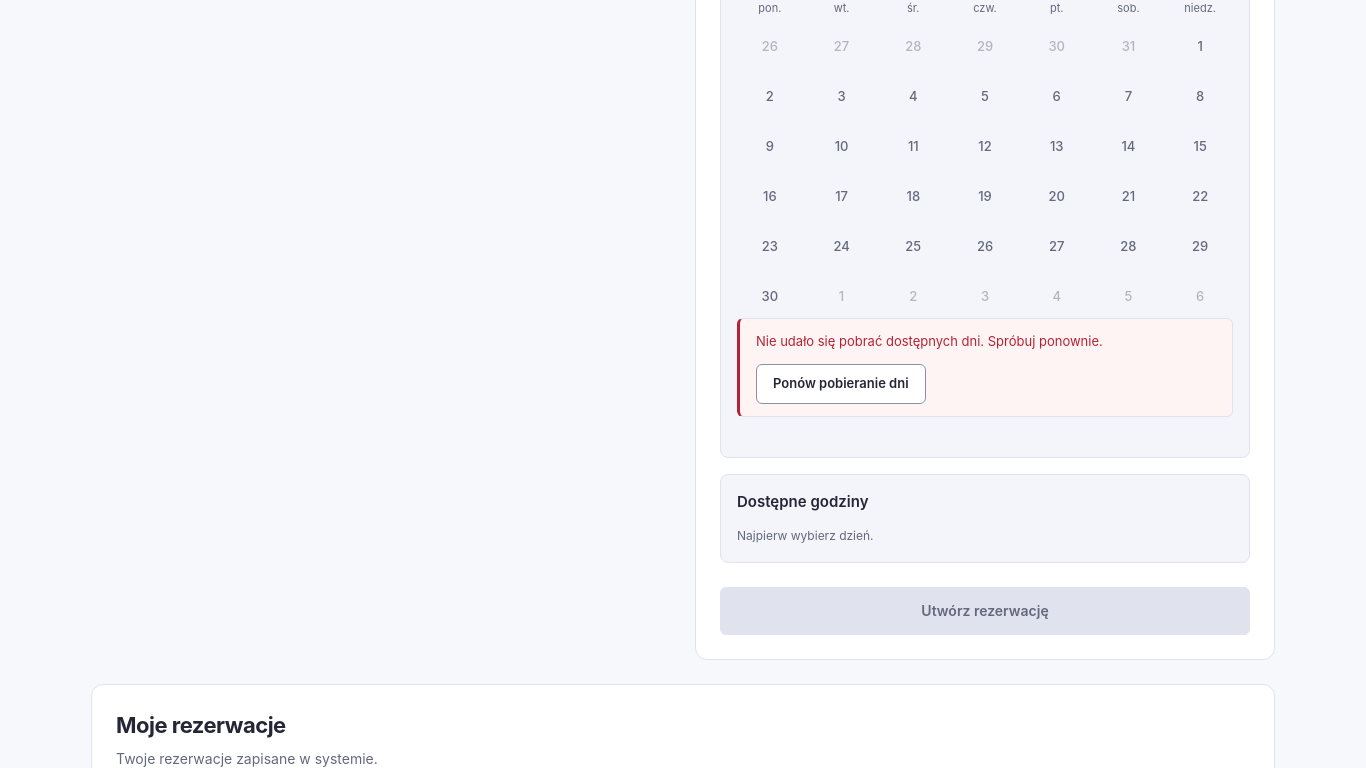
Scenario: availability failures and stale responses › reports a rejected http batch and retries with fresh requests
(page scrolled)
expect the text "Nie udało się pobrać dostępnych dni. Spróbuj ponownie." is shown: met, box [756, 333, 1103, 349]
Click the button "Ponów pobieranie dni" at [841, 384], box [756, 364, 926, 404]
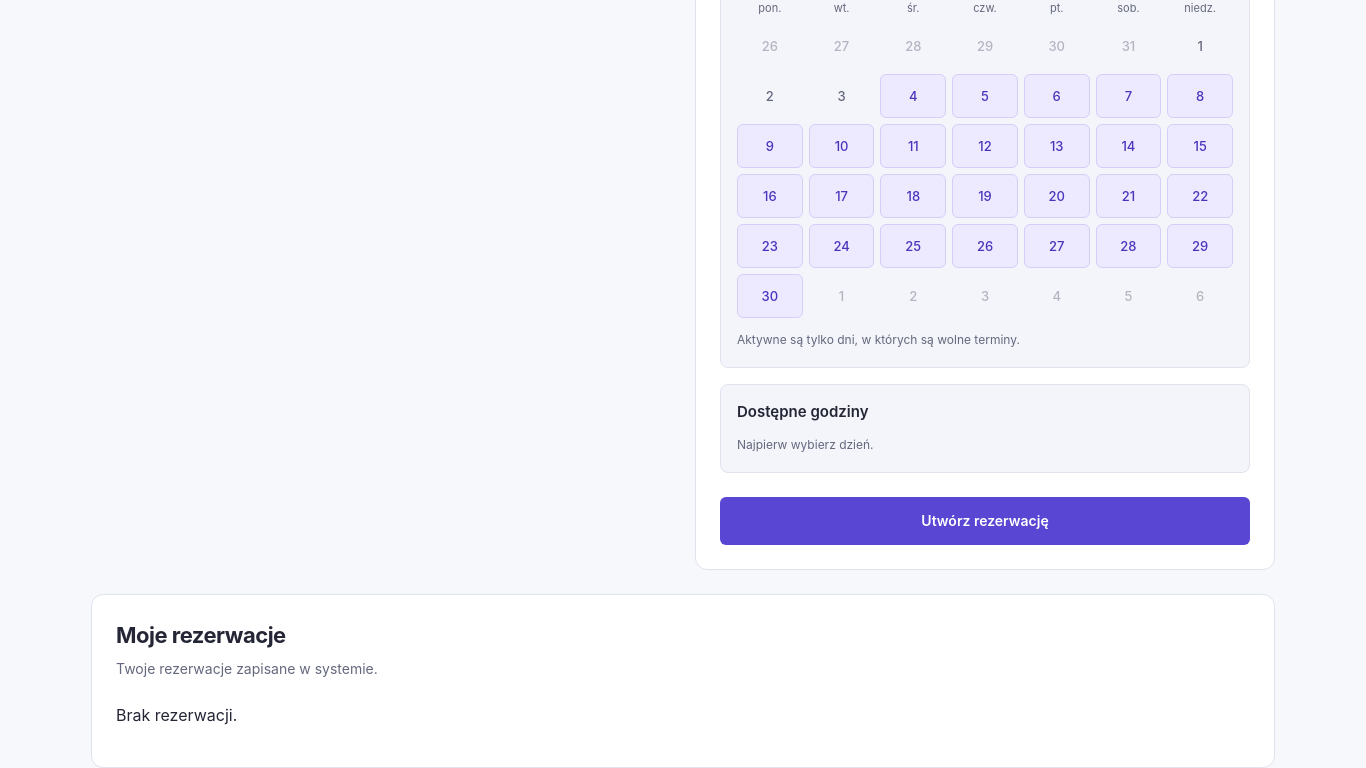
expect the text "Aktywne są tylko dni, w których są wolne terminy." is shown: met, box [737, 332, 1020, 347]
